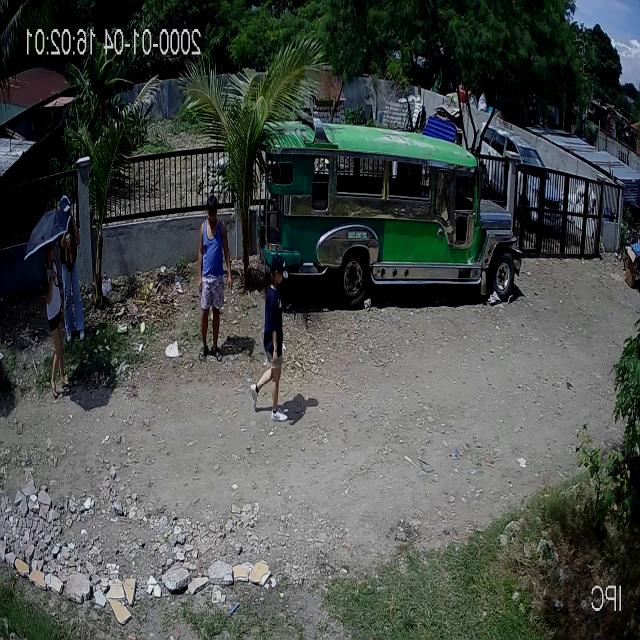standing: (54, 194, 86, 344)
walking: (246, 253, 291, 424), (193, 195, 230, 362), (39, 242, 73, 402)
